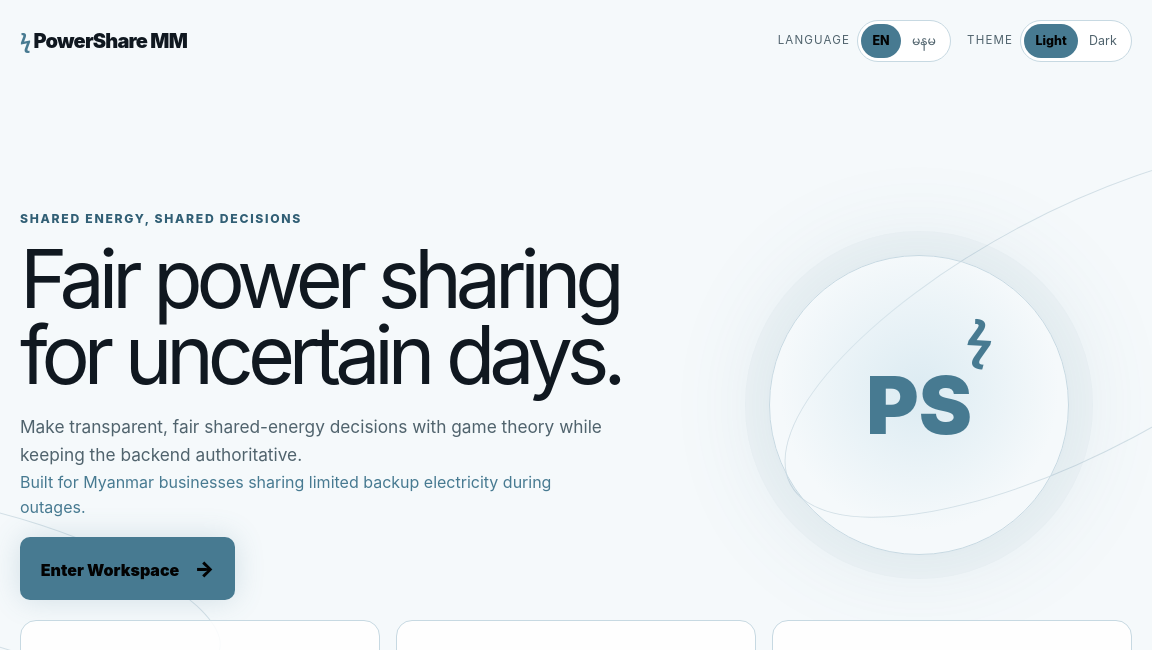
it: ScenarioForm — guided UX › disables submission when available hours is 0 or negative
Click the button "Enter Workspace →" at (128, 568), box [20, 537, 235, 600]
(page scrolled)
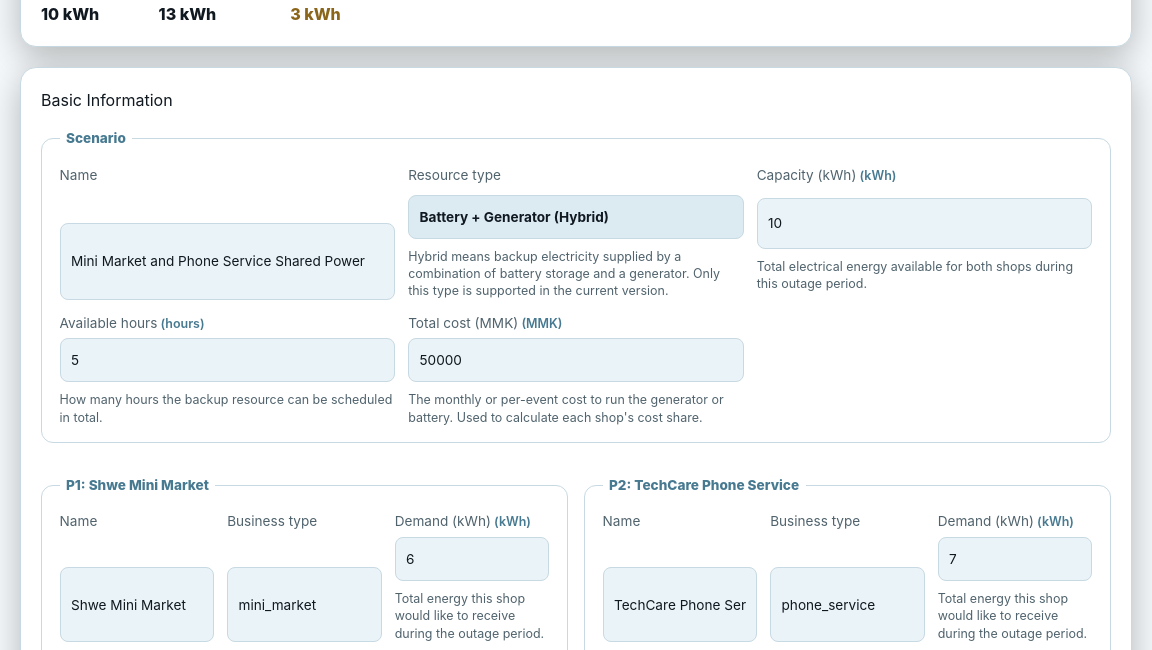
Replace the text in the number field labelled "Available hours (hours)" with "0" at (227, 360), box [60, 338, 395, 382]
(page scrolled)
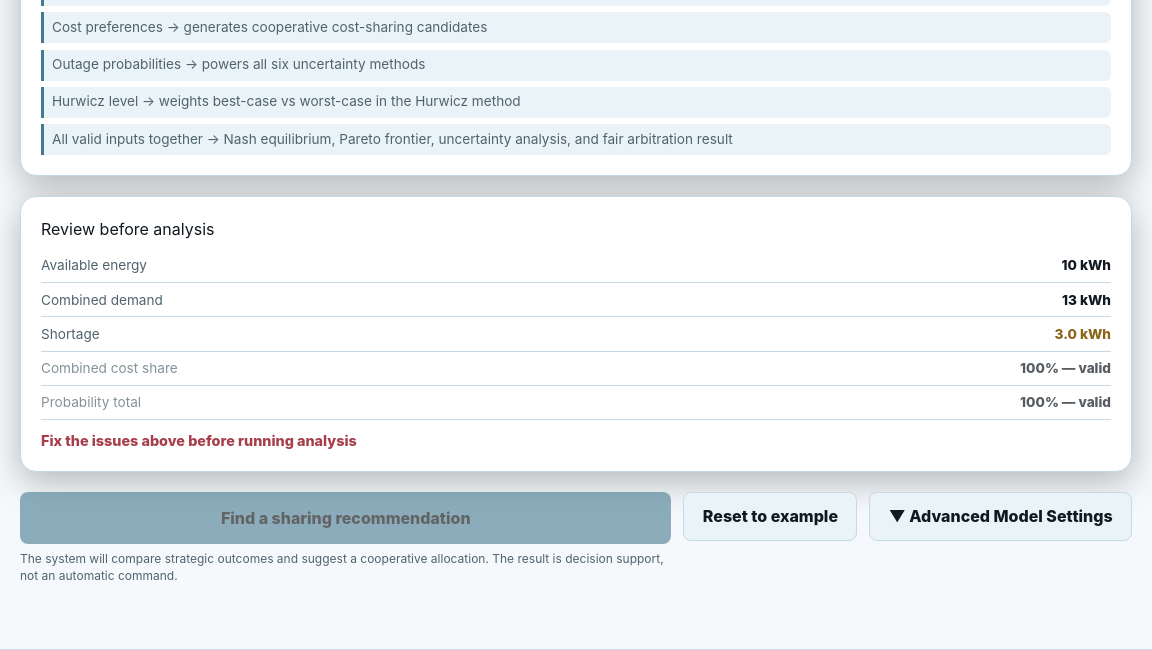
Expected: the button "Find a sharing recommendation" is disabled, [20, 492, 672, 544]
